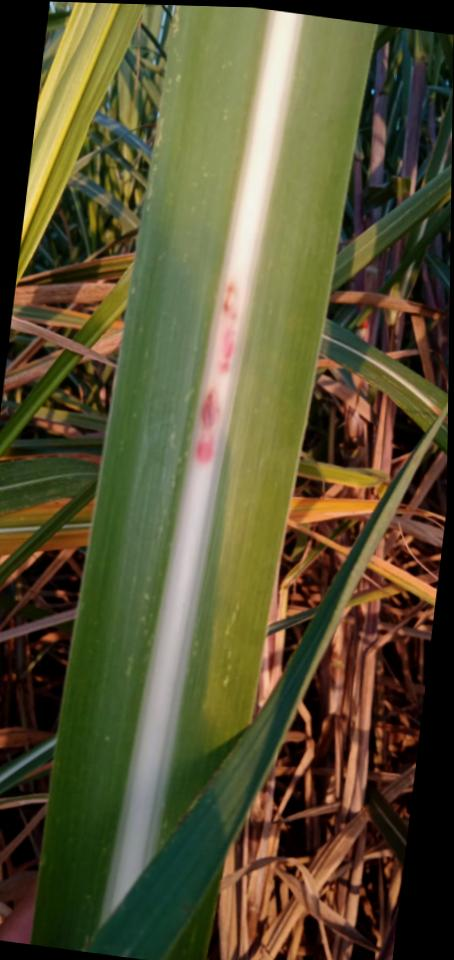RedRot: (194, 280, 241, 467)
